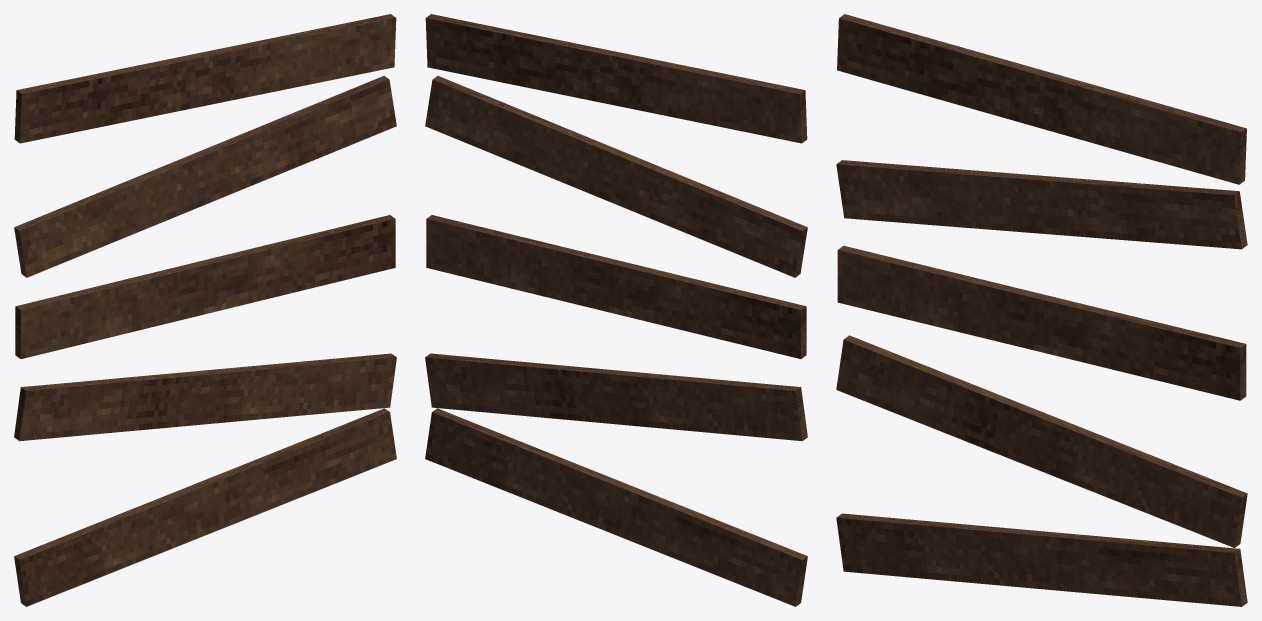
Rendered from planks_single_door.glb.
3 views of the same model, side by side, from view 1: azimuth 30°, elevation 25°; view 2: azimuth 150°, elevation 25°; view 3: azimuth 330°, elevation 25° (orthographic). The views are drawn at different scales.
Parts seen in each view (by area): view 1: planks_single_door2; view 2: planks_single_door2; view 3: planks_single_door2.
Boxes of the visible parts, box(x1,y1,x2,y2) form: planks_single_door2: box(14, 14, 396, 606); planks_single_door2: box(425, 14, 807, 606); planks_single_door2: box(836, 14, 1247, 606).
Bounding box in the file's own units: 1.61 × 2.1 × 0.04.
1 material, 1 textured.
